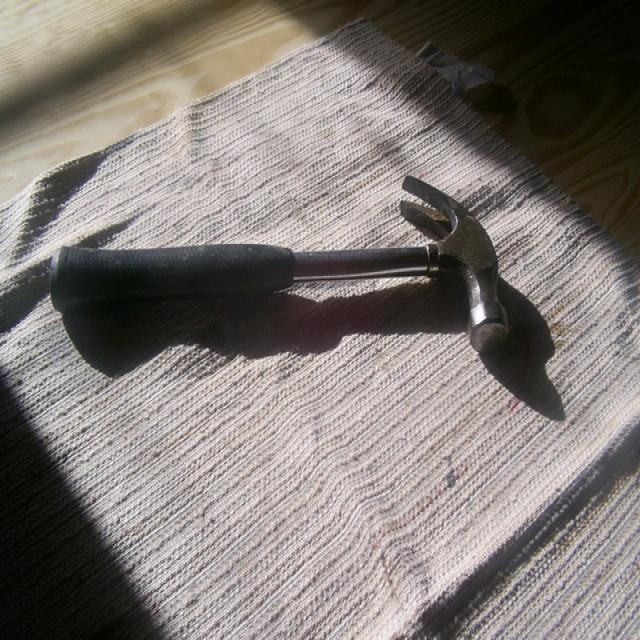hammer: (44, 164, 523, 380)
